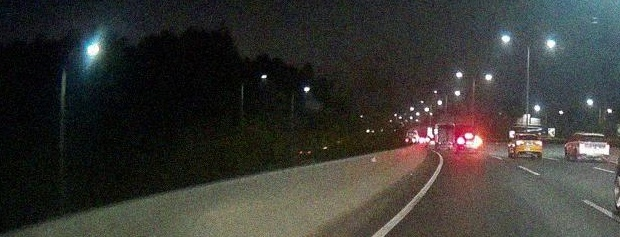L_light: (516, 141, 524, 145), (580, 144, 586, 148), (458, 139, 463, 142)
R_light: (535, 141, 542, 146), (604, 145, 608, 149), (475, 139, 480, 142)
T_light: (466, 135, 471, 138), (589, 135, 595, 137), (526, 135, 530, 136)
night-no: (580, 133, 609, 162), (516, 134, 542, 158)
night-right: (457, 135, 480, 154)
